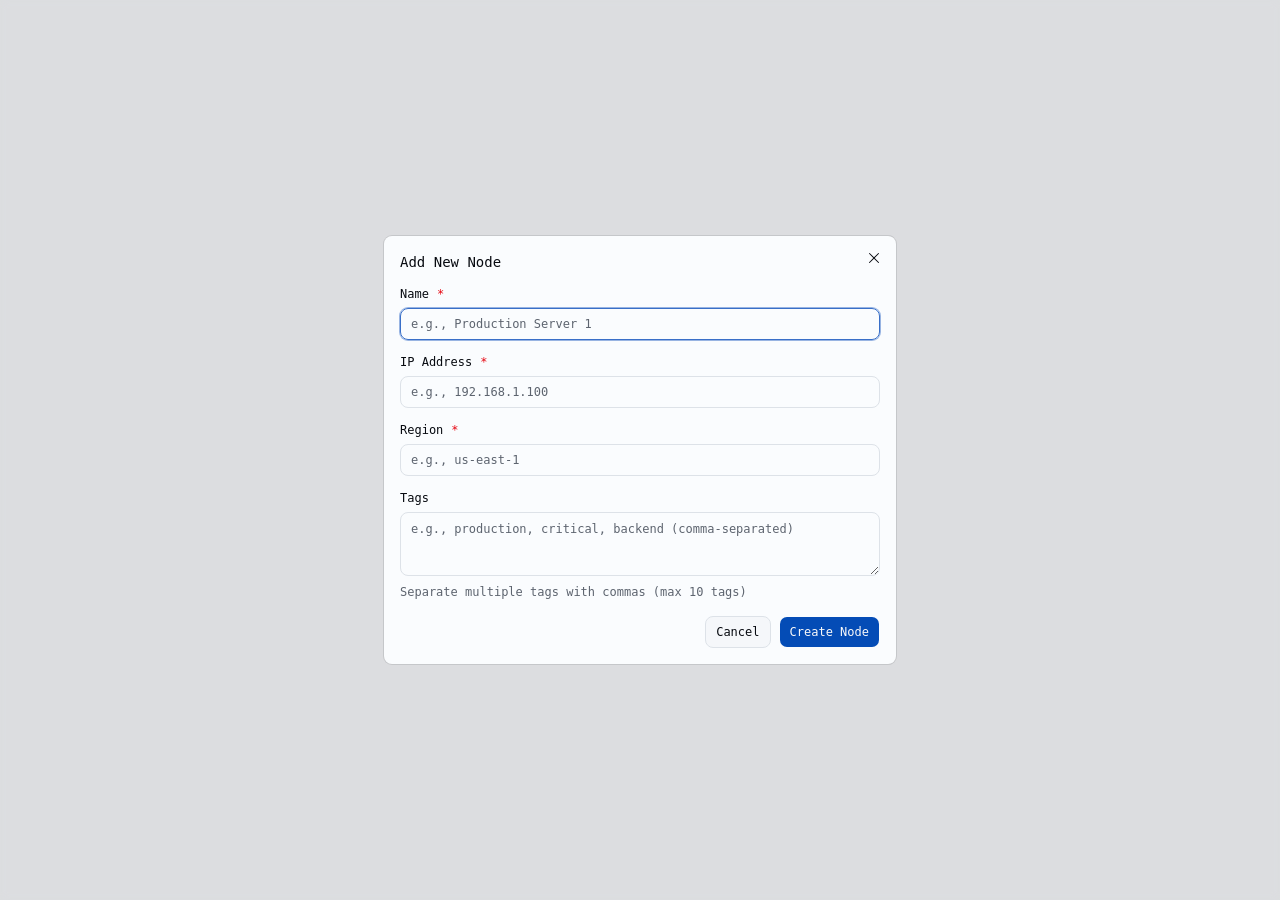
NodeDialog › Create Mode › validates IP address format
This screenshot has width=1280, height=900.
Type "Test Node" into the field labelled "Name *" at (640, 324), box [400,308,880,340]
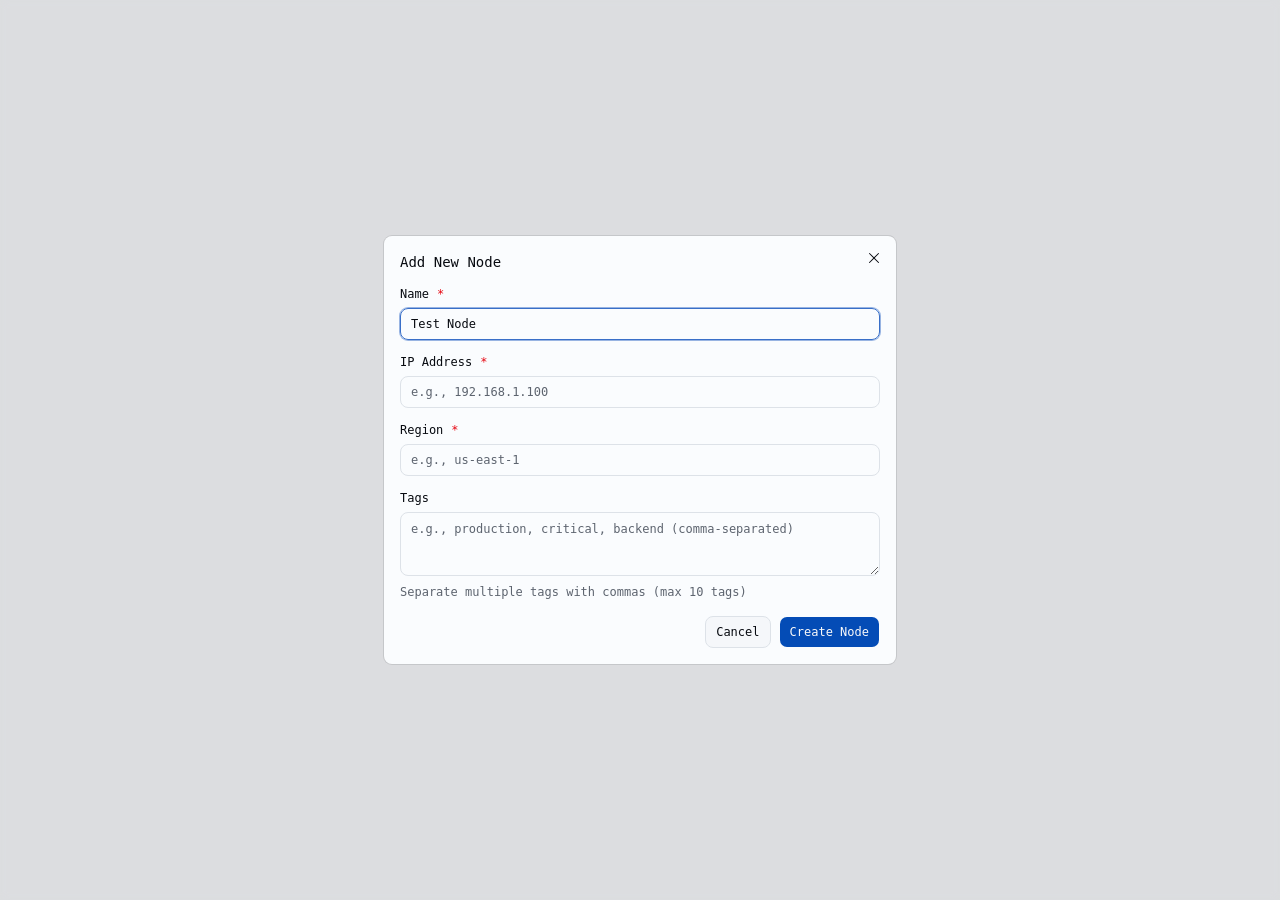
Type "invalid-ip" into the field labelled "IP Address *" at (640, 392), box [400,376,880,408]
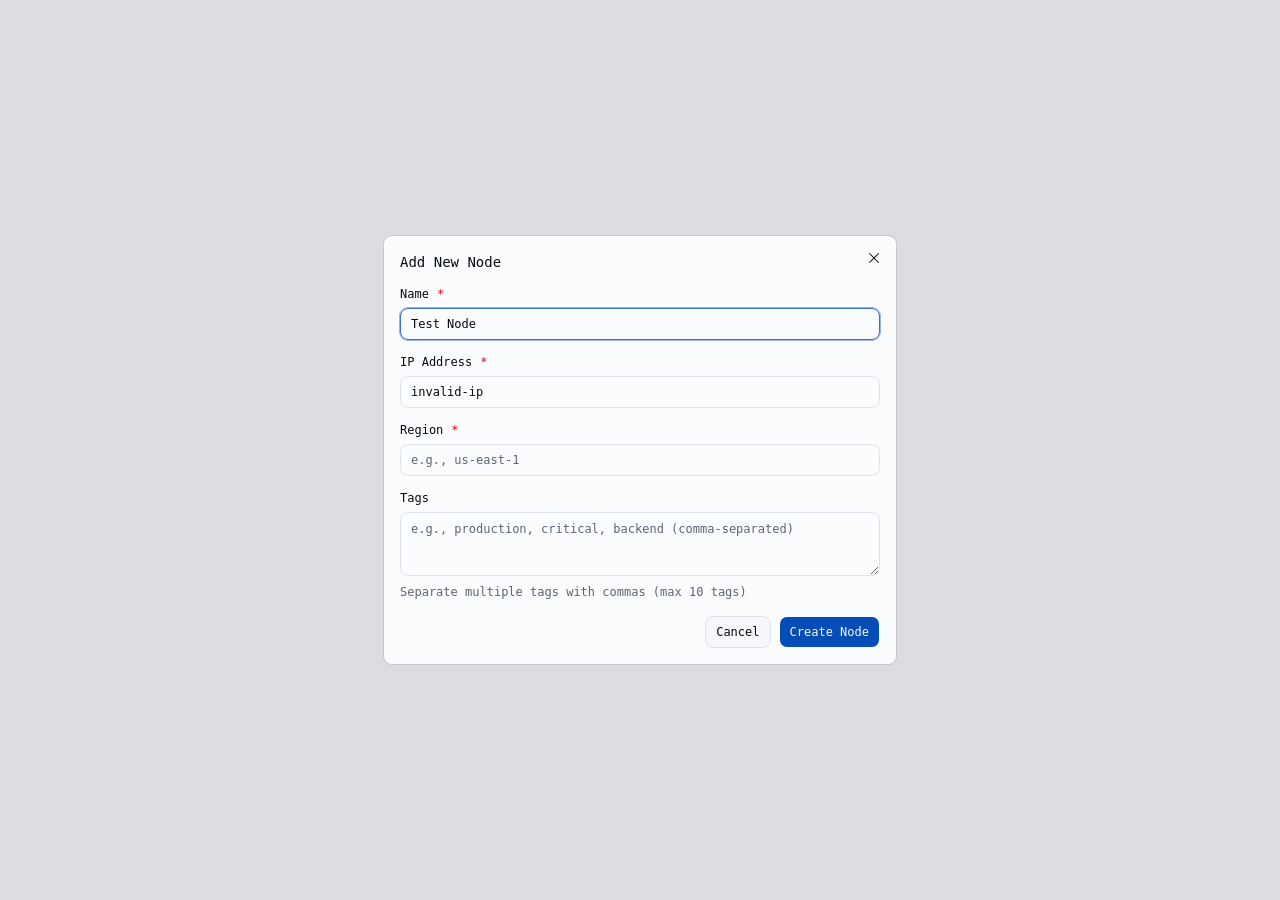
Type "us-east-1" into the field labelled "Region *" at (640, 460), box [400,444,880,476]
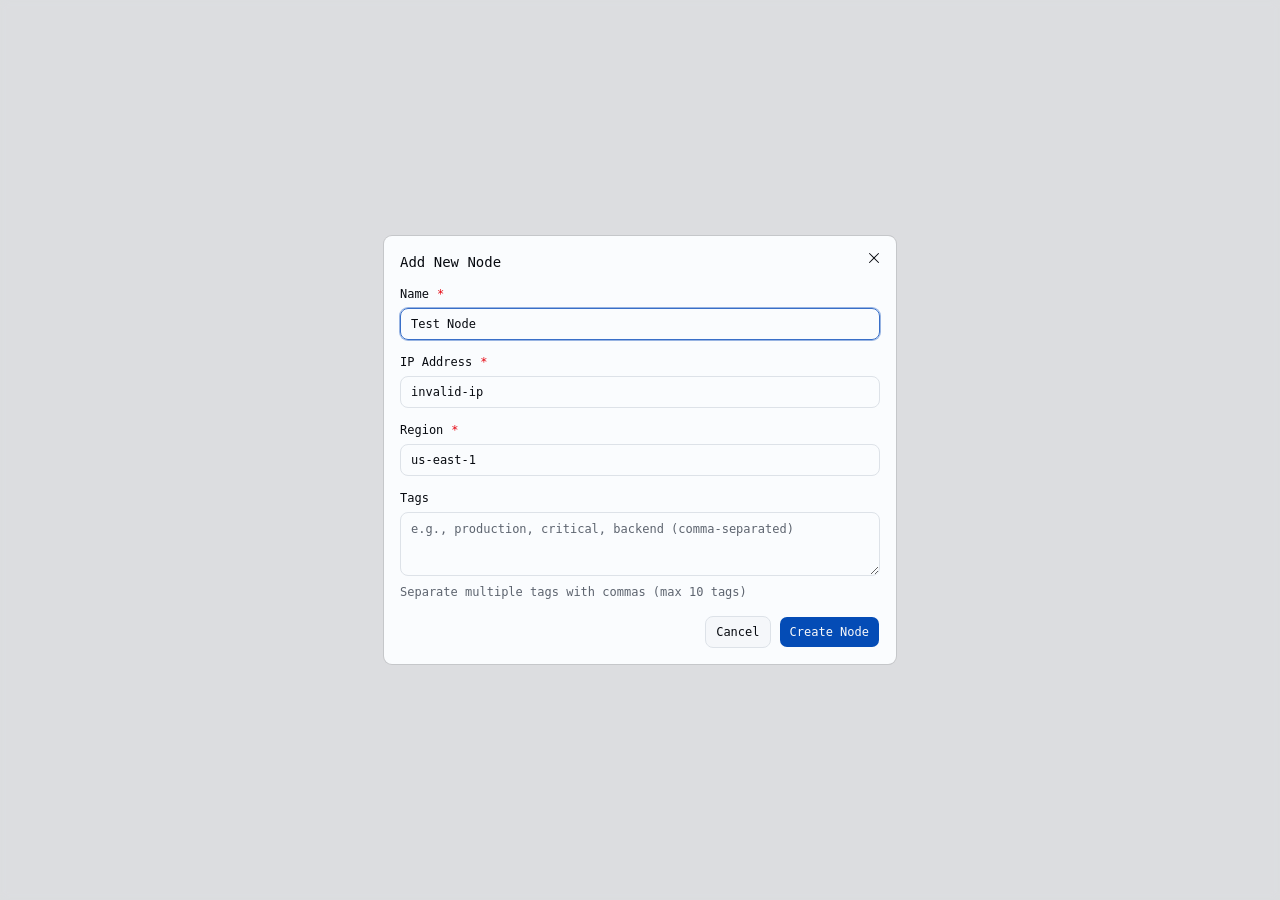
Click the button "Create Node" at (829, 632), box [778,616,880,648]
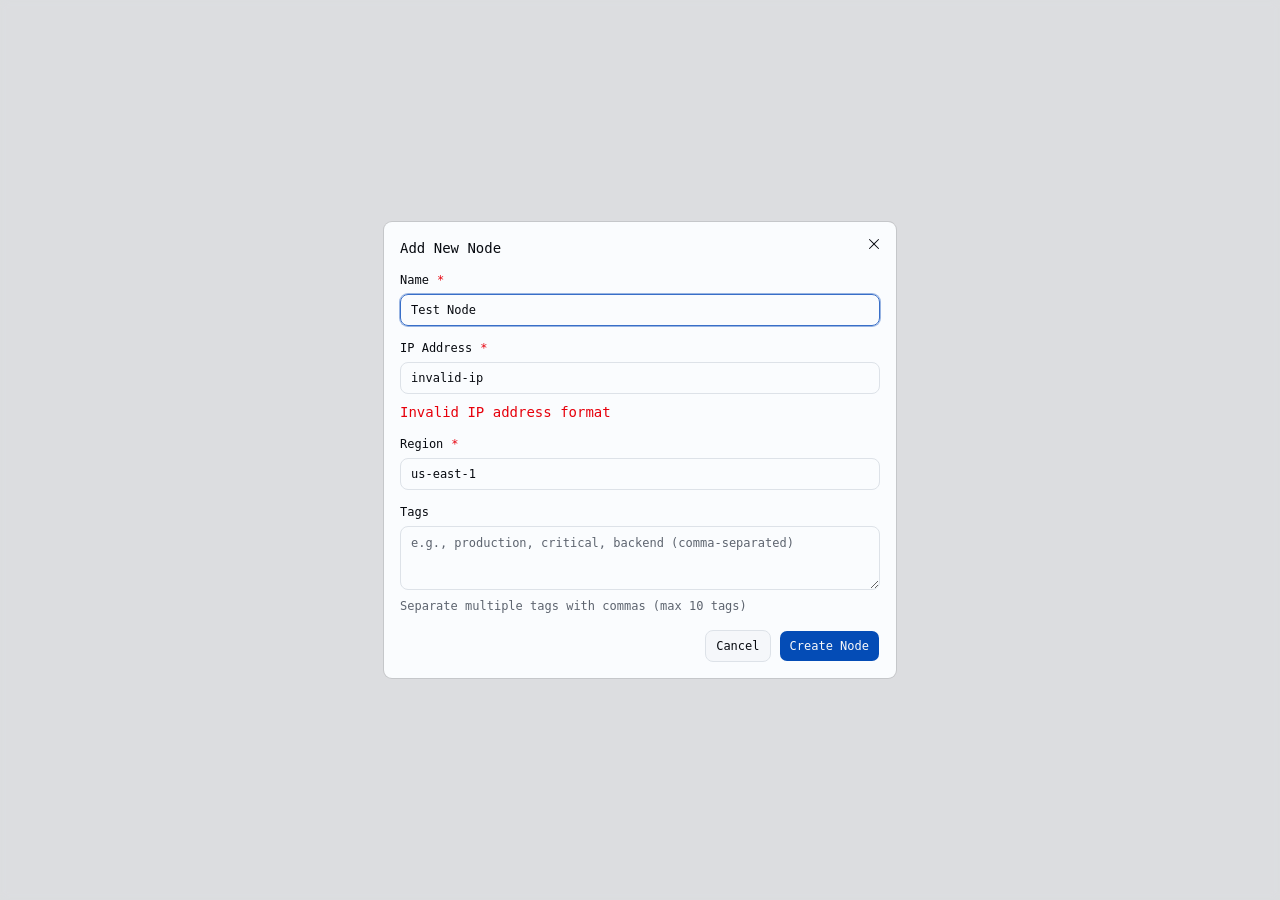
Now the text "Invalid IP address format" is shown, box [400,404,611,420]
